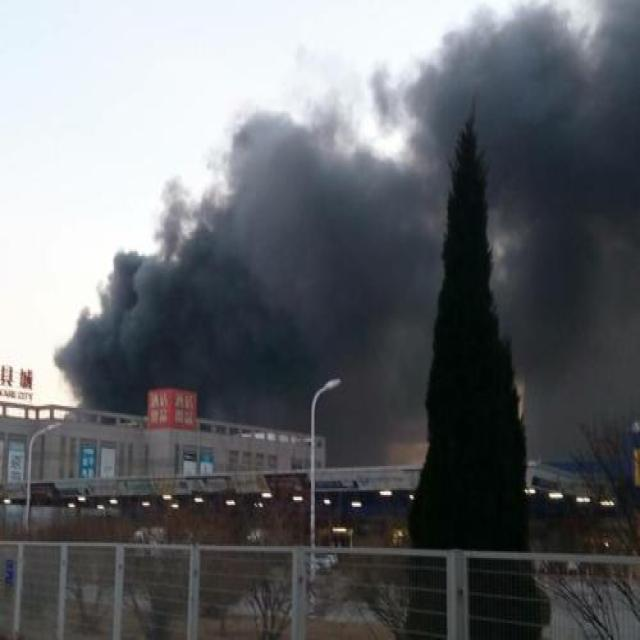Smoke: (51, 2, 458, 421), (486, 0, 640, 476)
